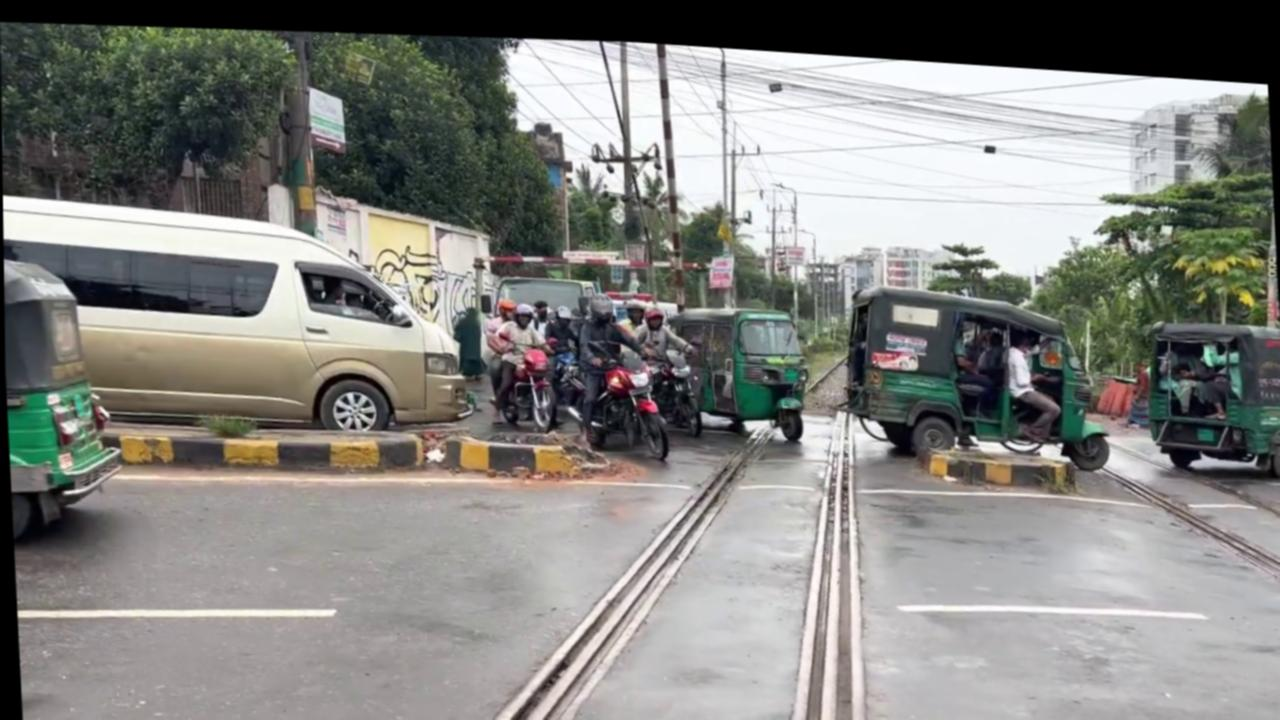Fence: (1122, 343, 1151, 413)
Garbage: (654, 34, 684, 303)
Motorcycle: (437, 368, 869, 720), (1092, 423, 1280, 573)
Rickshaw: (835, 262, 1110, 465), (3, 254, 125, 547), (1141, 297, 1280, 464), (663, 290, 812, 435)
